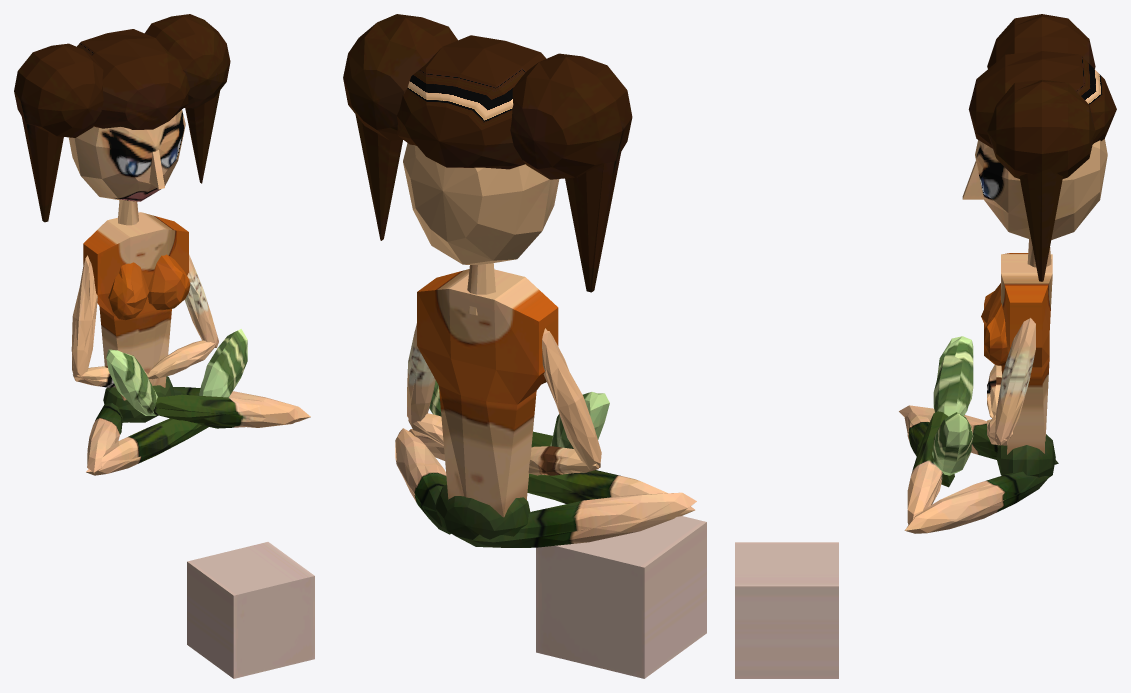
Rendered from Inst.glb.
3 views of the same model, side by side, from view 1: azimuth 30°, elevation 25°; view 2: azimuth 150°, elevation 25°; view 3: azimuth 270°, elevation 25° (orthographic). The views are drawn at different scales.
Parts seen in each view (by area): view 1: Inst; view 2: Inst; view 3: Inst.
Part boxes in pixels (bbox=[...]): Inst: bbox=[14, 14, 314, 678]; Inst: bbox=[343, 14, 706, 678]; Inst: bbox=[735, 14, 1116, 678].
Bounding box in the file's own units: 91.63 × 207 × 119.
Materials: 1 (1 with a texture image).
